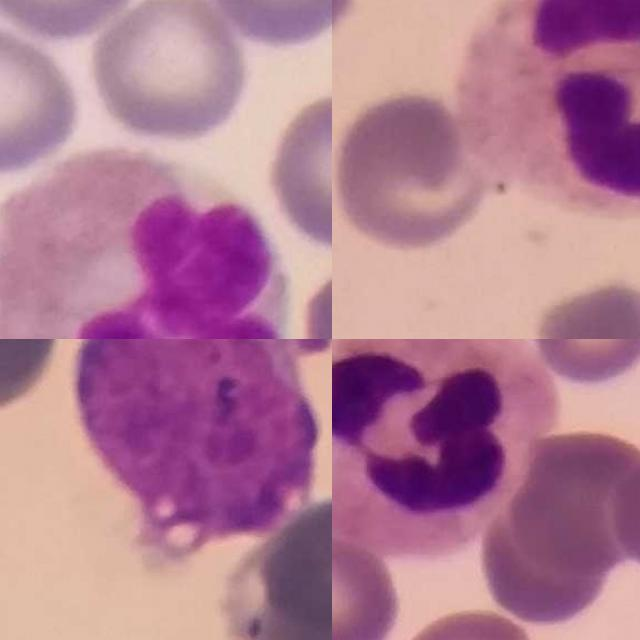Eosinophil: (0, 147, 290, 339)
Lymphocyte: (70, 339, 318, 541)
Neutrophil: (332, 339, 560, 560), (451, 0, 640, 219)
